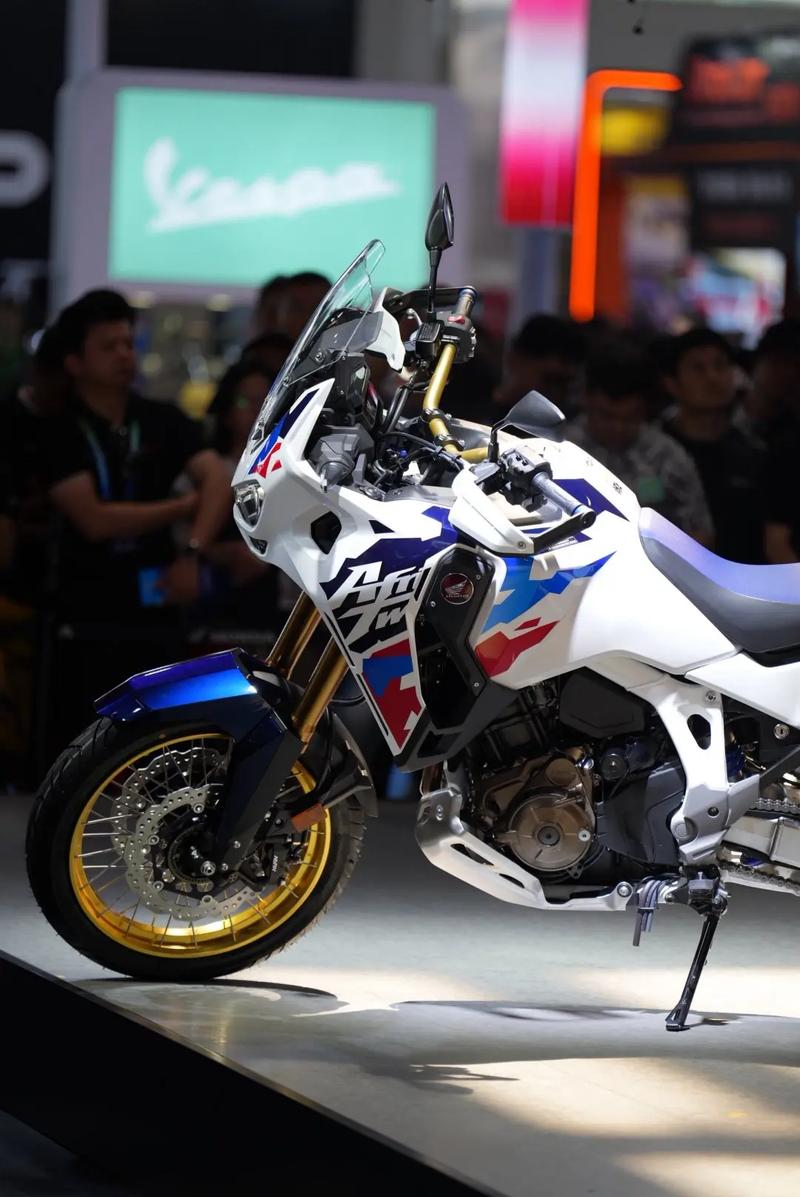摩托车: (17, 187, 800, 990)
